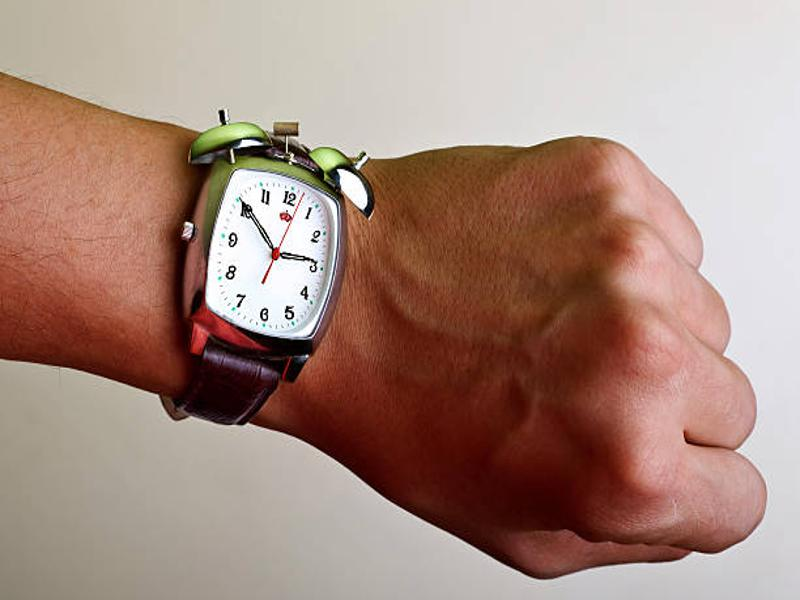watch: (160, 110, 377, 427)
